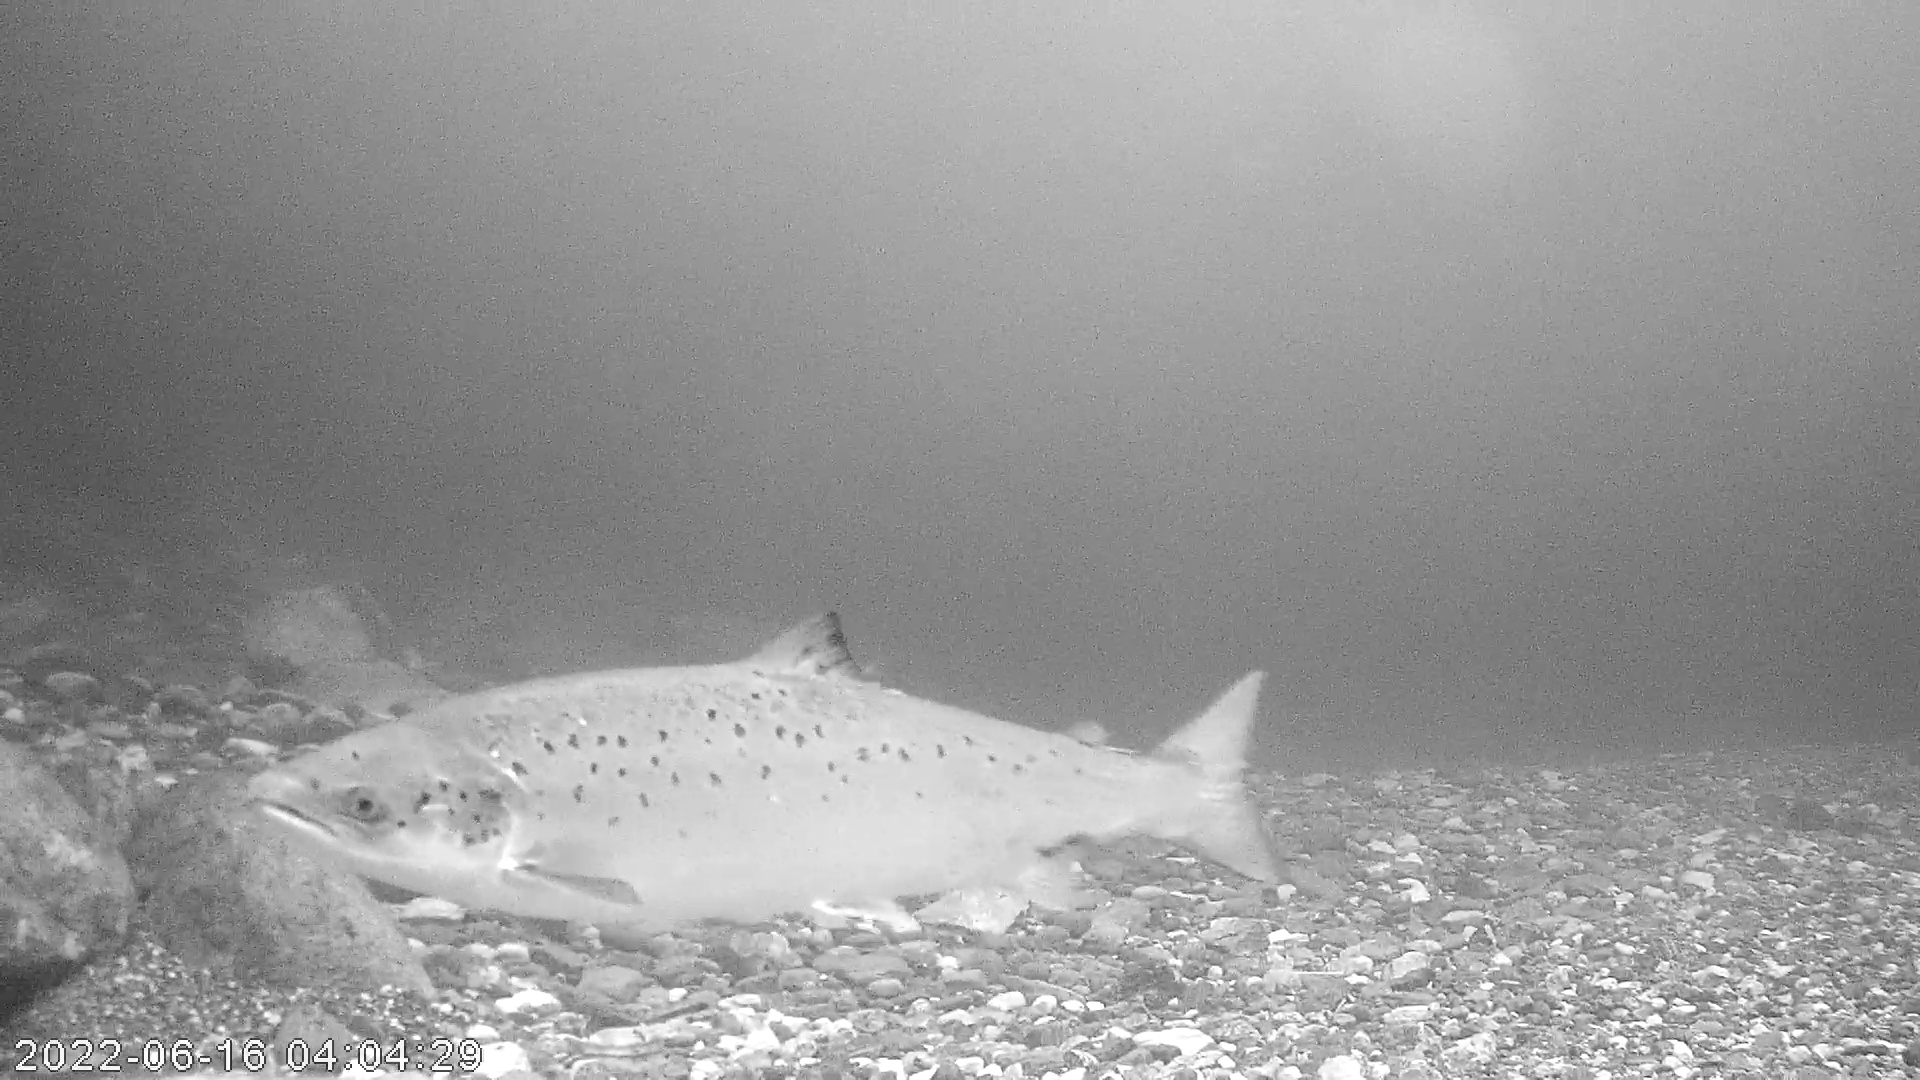salmon: (244, 607, 1287, 924)
